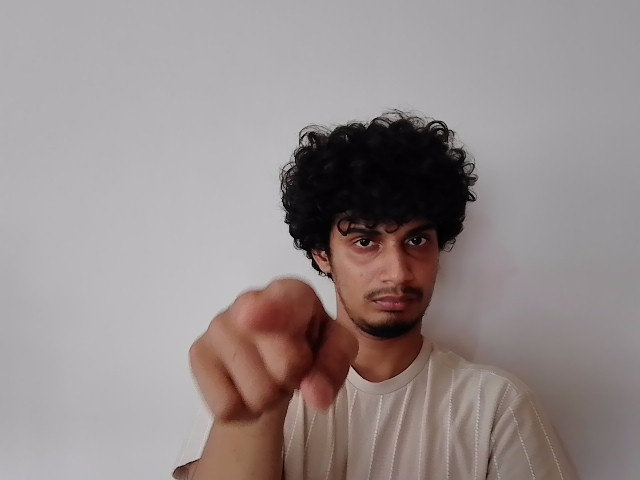you: (179, 275, 366, 435)
